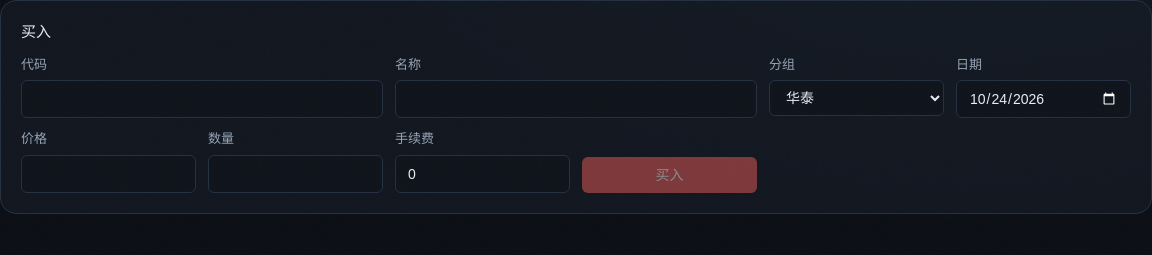
Test: BuyForm › 非 Error 异常回退为默认错误文案
Type "600519" into the field labelled "代码".
click(202, 99); type("600519")  # box 21,80 -> 383,118
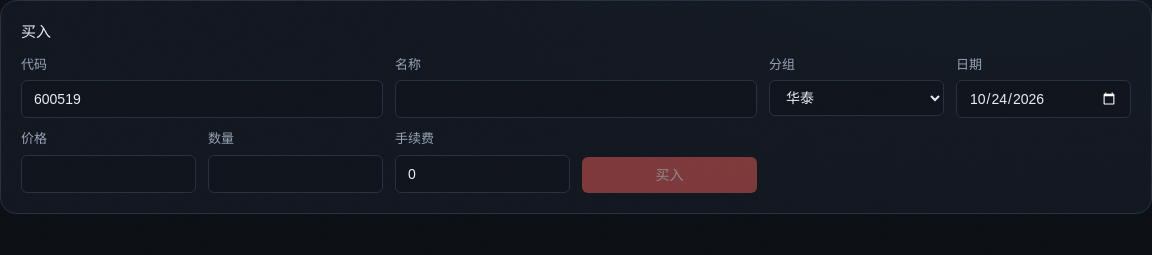
Type "贵州茅台" into the field labelled "名称".
click(576, 99); type("贵州茅台")  # box 395,80 -> 757,118
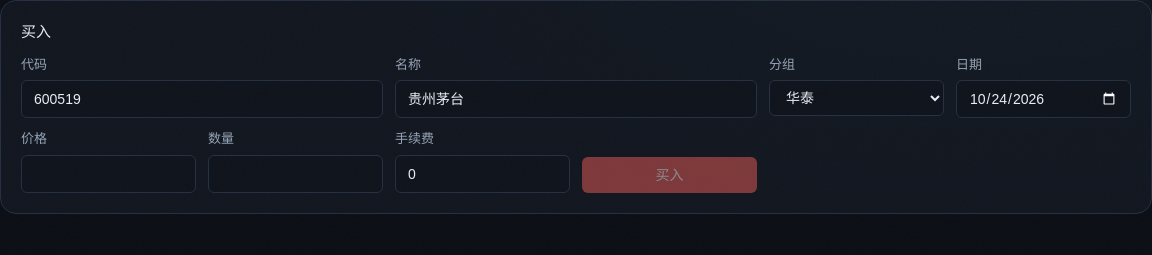
Type "1500" into the field labelled "价格".
click(108, 174); type("1500")  # box 21,155 -> 196,193
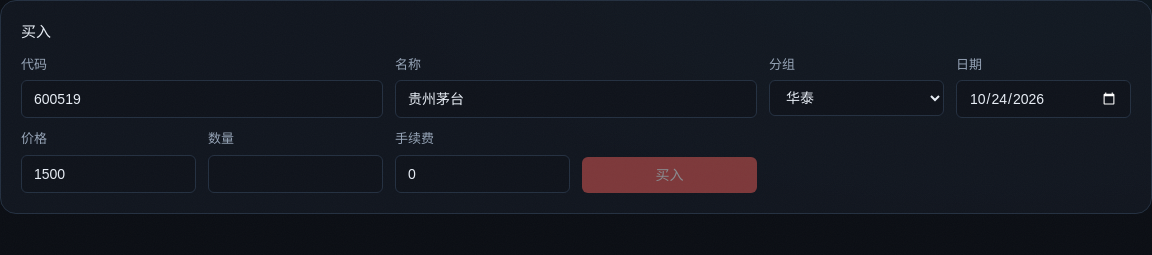
Type "100" into the field labelled "数量".
click(296, 174); type("100")  # box 208,155 -> 383,193
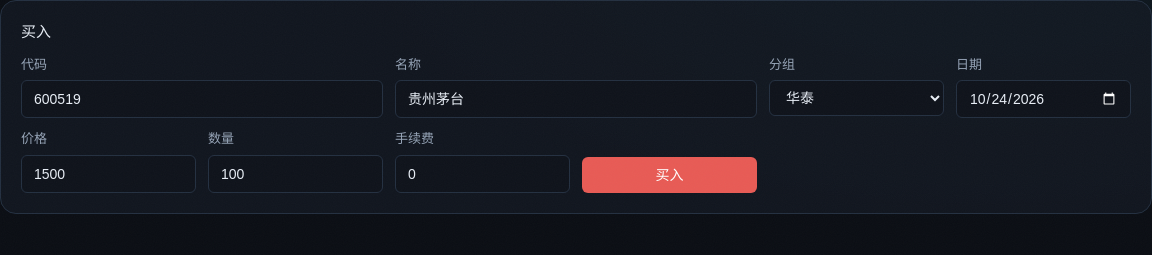
Click the button "买入".
click(670, 175)  # box 582,157 -> 757,193
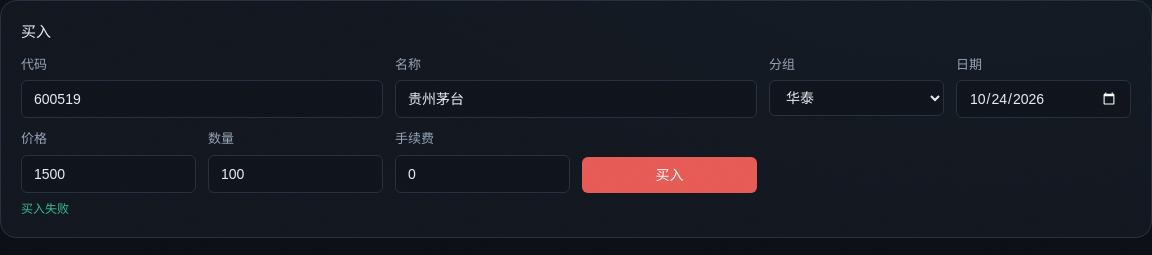
expect the text "买入失败" is shown: met, box 21,202 -> 69,216
